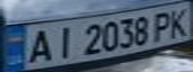0: (100, 18, 121, 52)
2: (78, 20, 106, 56)
3: (118, 16, 139, 48)
8: (133, 12, 154, 46)
A: (21, 26, 57, 65)
I: (48, 24, 78, 60)
K: (166, 4, 193, 38)
P: (148, 9, 178, 42)
